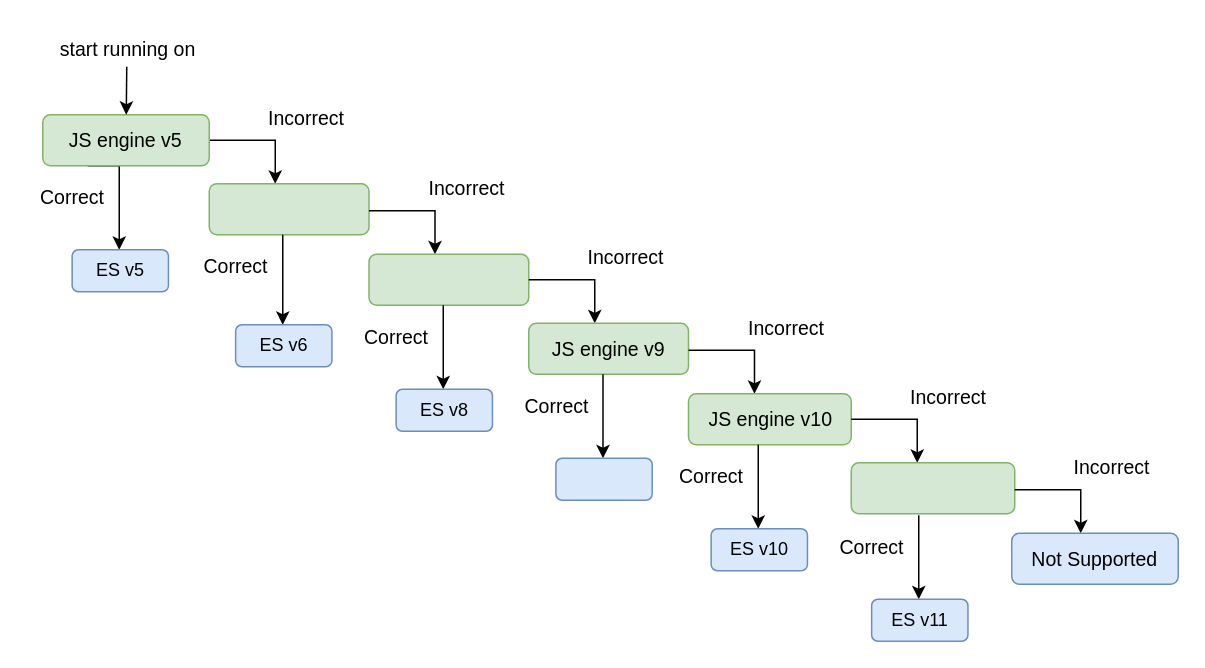
Image size: 1205x668. Some labels were removed from this diagram. Here are the shapes that lost their labels. From the top down, the box of each, then its label:
(208, 182, 369, 235): JS engine v6
(368, 253, 529, 305): JS engine v8
(554, 457, 652, 500): ES v9
(850, 461, 1015, 514): JS engine v11
